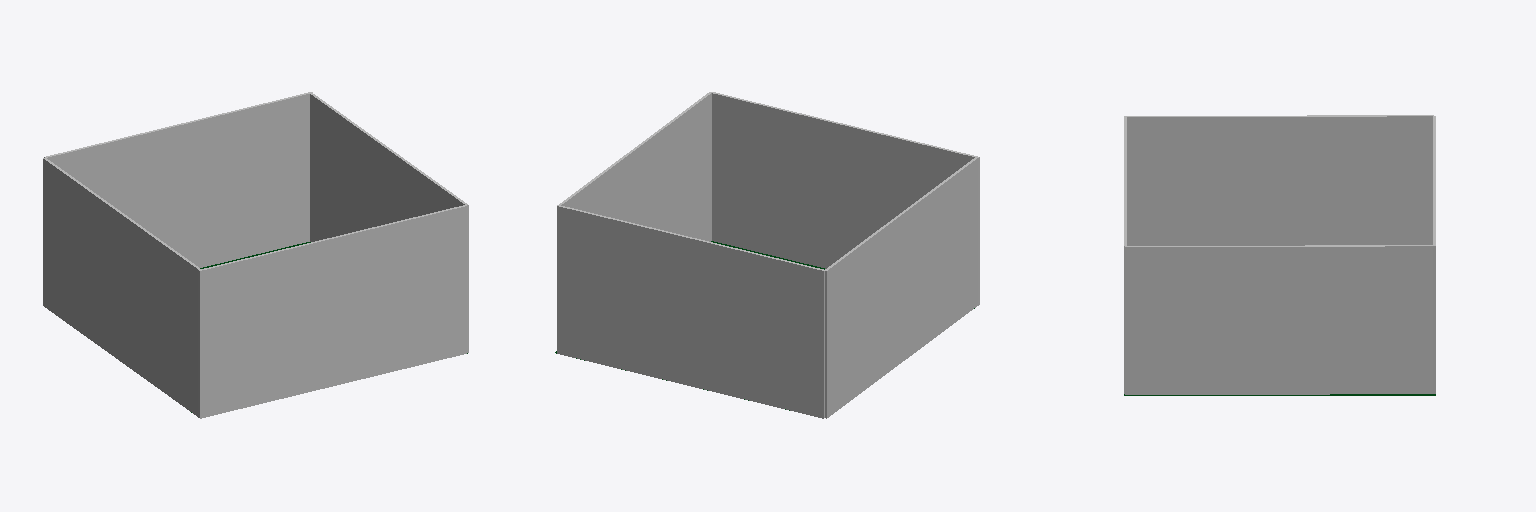
File: hall.obj
The picture shows the model from 3 angles: view 1: azimuth 30°, elevation 25°; view 2: azimuth 150°, elevation 25°; view 3: azimuth 270°, elevation 25°; orthographic projection.
Parts seen in each view (by area): view 1: Cube.001, Cube.002, Cube.004, Cube.003; view 2: Cube.002, Cube.001, Cube.004, Cube.003; view 3: Cube.003, Cube.004, Cube.002, Cube.001.
Part boxes in pixels (bbox=[...]): Cube.001: bbox=[198, 205, 466, 418]; Cube.002: bbox=[44, 92, 312, 267]; Cube.004: bbox=[43, 157, 199, 416]; Cube.003: bbox=[310, 93, 468, 352]; Cube.002: bbox=[557, 205, 824, 418]; Cube.001: bbox=[711, 92, 979, 305]; Cube.004: bbox=[825, 157, 977, 418]; Cube.003: bbox=[559, 92, 711, 241]; Cube.003: bbox=[1125, 245, 1433, 394]; Cube.004: bbox=[1127, 115, 1433, 245]; Cube.002: bbox=[1433, 116, 1435, 393]; Cube.001: bbox=[1124, 116, 1126, 393].
Bounding box in the file's own units: 202 × 106 × 200.